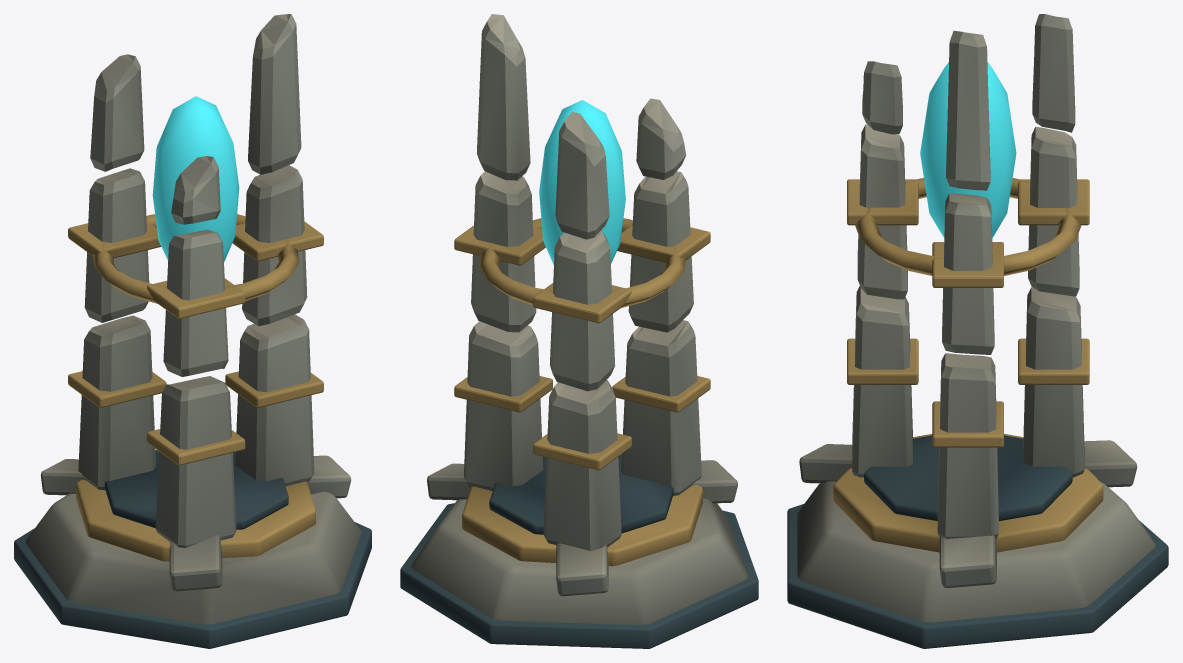
Rendered from skyreach-memory-spire-v1.glb.
3 views of the same model, side by side, from view 1: azimuth 30°, elevation 25°; view 2: azimuth 150°, elevation 25°; view 3: azimuth 270°, elevation 25° (orthographic). The views are drawn at different scales.
Parts seen in each view (by area): view 1: GB_SPIRE_Stone, GB_SPIRE_Bronze, GB_SPIRE_Recess, GB_SPIRE_Lens; view 2: GB_SPIRE_Stone, GB_SPIRE_Bronze, GB_SPIRE_Recess, GB_SPIRE_Lens; view 3: GB_SPIRE_Stone, GB_SPIRE_Bronze, GB_SPIRE_Recess, GB_SPIRE_Lens.
Part boxes in pixels (<box>): GB_SPIRE_Stone: <box>25,14,361,624</box>; GB_SPIRE_Bronze: <box>68,214,323,561</box>; GB_SPIRE_Recess: <box>14,450,371,648</box>; GB_SPIRE_Lens: <box>152,96,239,261</box>; GB_SPIRE_Stone: <box>411,14,748,624</box>; GB_SPIRE_Bronze: <box>454,218,710,566</box>; GB_SPIRE_Recess: <box>400,455,758,648</box>; GB_SPIRE_Lens: <box>539,100,625,265</box>; GB_SPIRE_Stone: <box>797,14,1155,622</box>; GB_SPIRE_Bronze: <box>833,178,1103,552</box>; GB_SPIRE_Recess: <box>787,435,1168,648</box>; GB_SPIRE_Lens: <box>920,62,1016,237</box>.
Bounding box in the file's own units: 1.26 × 2.09 × 1.23.
